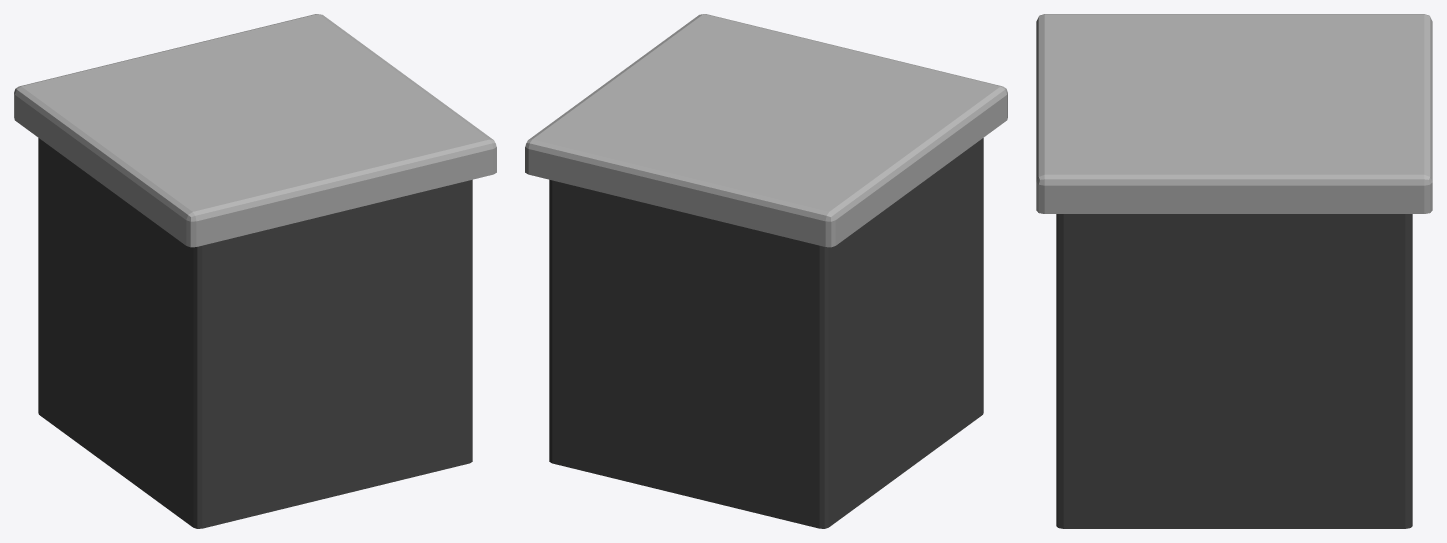
Rendered from Workbench_Final_Test.fbx.
The picture shows the model from 3 angles, left to right: view 1: azimuth 30°, elevation 25°; view 2: azimuth 150°, elevation 25°; view 3: azimuth 270°, elevation 25°; orthographic projection. The views are drawn at different scales.
Parts seen in each view (by area): view 1: Workbench Final Test; view 2: Workbench Final Test; view 3: Workbench Final Test.
Boxes of the visible parts, x1,y1,x2,y2 form: Workbench Final Test: (14, 14, 496, 528); Workbench Final Test: (525, 14, 1007, 528); Workbench Final Test: (1036, 14, 1432, 528).
Size of the model in its own units: 100 by 100 by 100.
